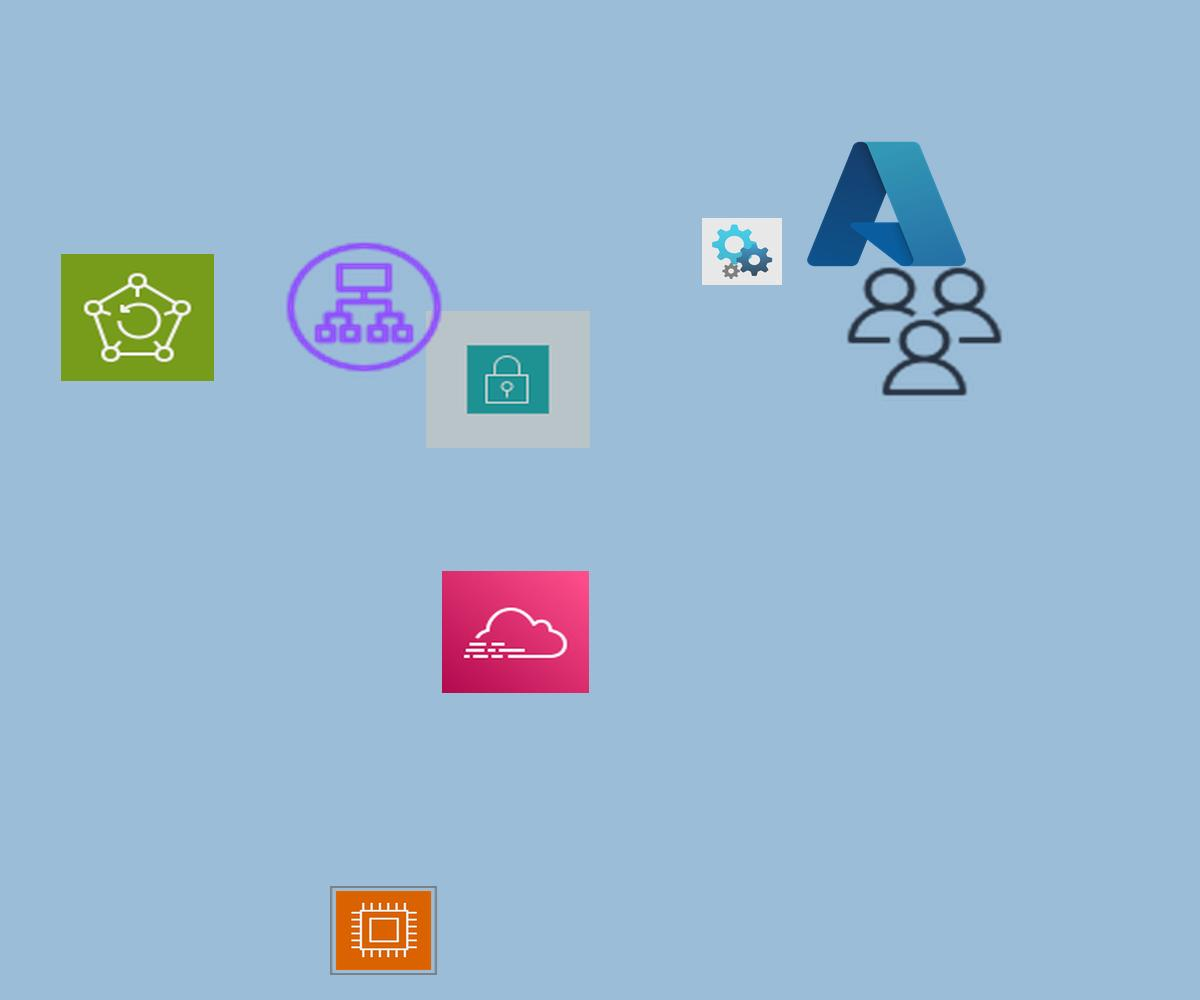AWS-Backup: (61, 254, 214, 381)
AWS-Category_Compute: (330, 886, 437, 975)
AWS-CloudTrail: (442, 571, 589, 693)
AWS-Private-subnet: (426, 311, 590, 448)
AWS-Res_Elastic-Load-Balancing_Application-Load-Balancer: (280, 237, 448, 377)
AWS-Res_Users: (841, 262, 1008, 401)
Azure_api: (702, 218, 782, 285)
Azure_services: (800, 132, 973, 276)
